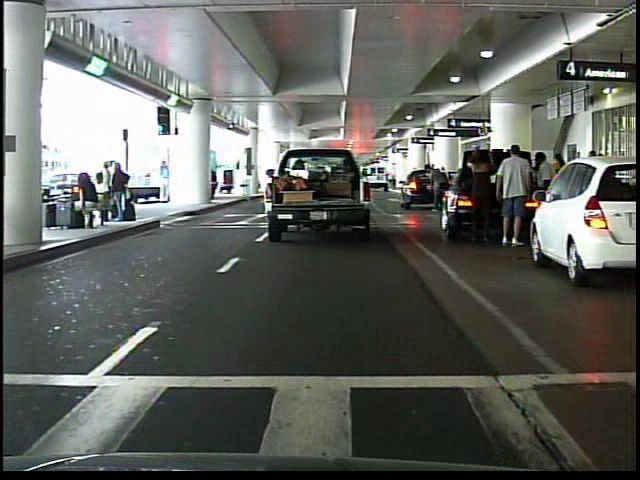person: (462, 140, 499, 250), (494, 141, 532, 248), (529, 144, 556, 250), (423, 158, 450, 215), (158, 158, 174, 203)
